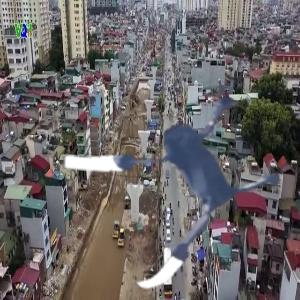drone: (54, 52, 300, 298)
